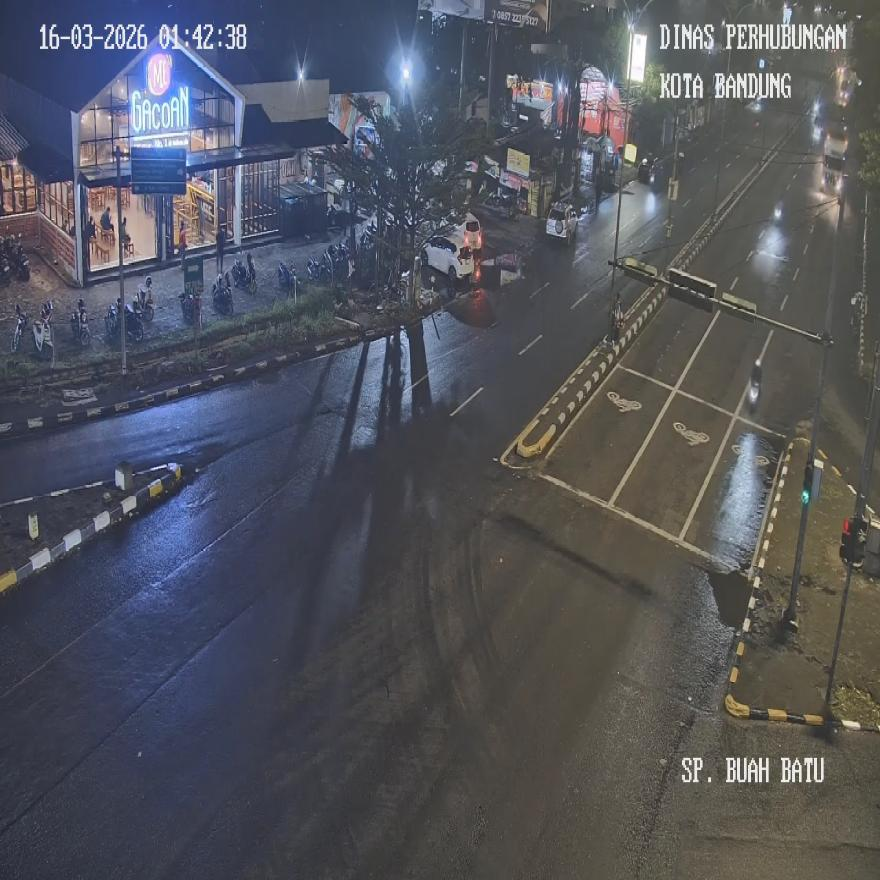Truk: (32, 301, 54, 358), (229, 253, 256, 296), (123, 295, 144, 342), (211, 271, 232, 316), (71, 298, 90, 347), (306, 250, 332, 284), (182, 282, 202, 326), (275, 262, 297, 298), (13, 303, 28, 353), (104, 297, 120, 341), (748, 358, 761, 411), (140, 275, 154, 323)
